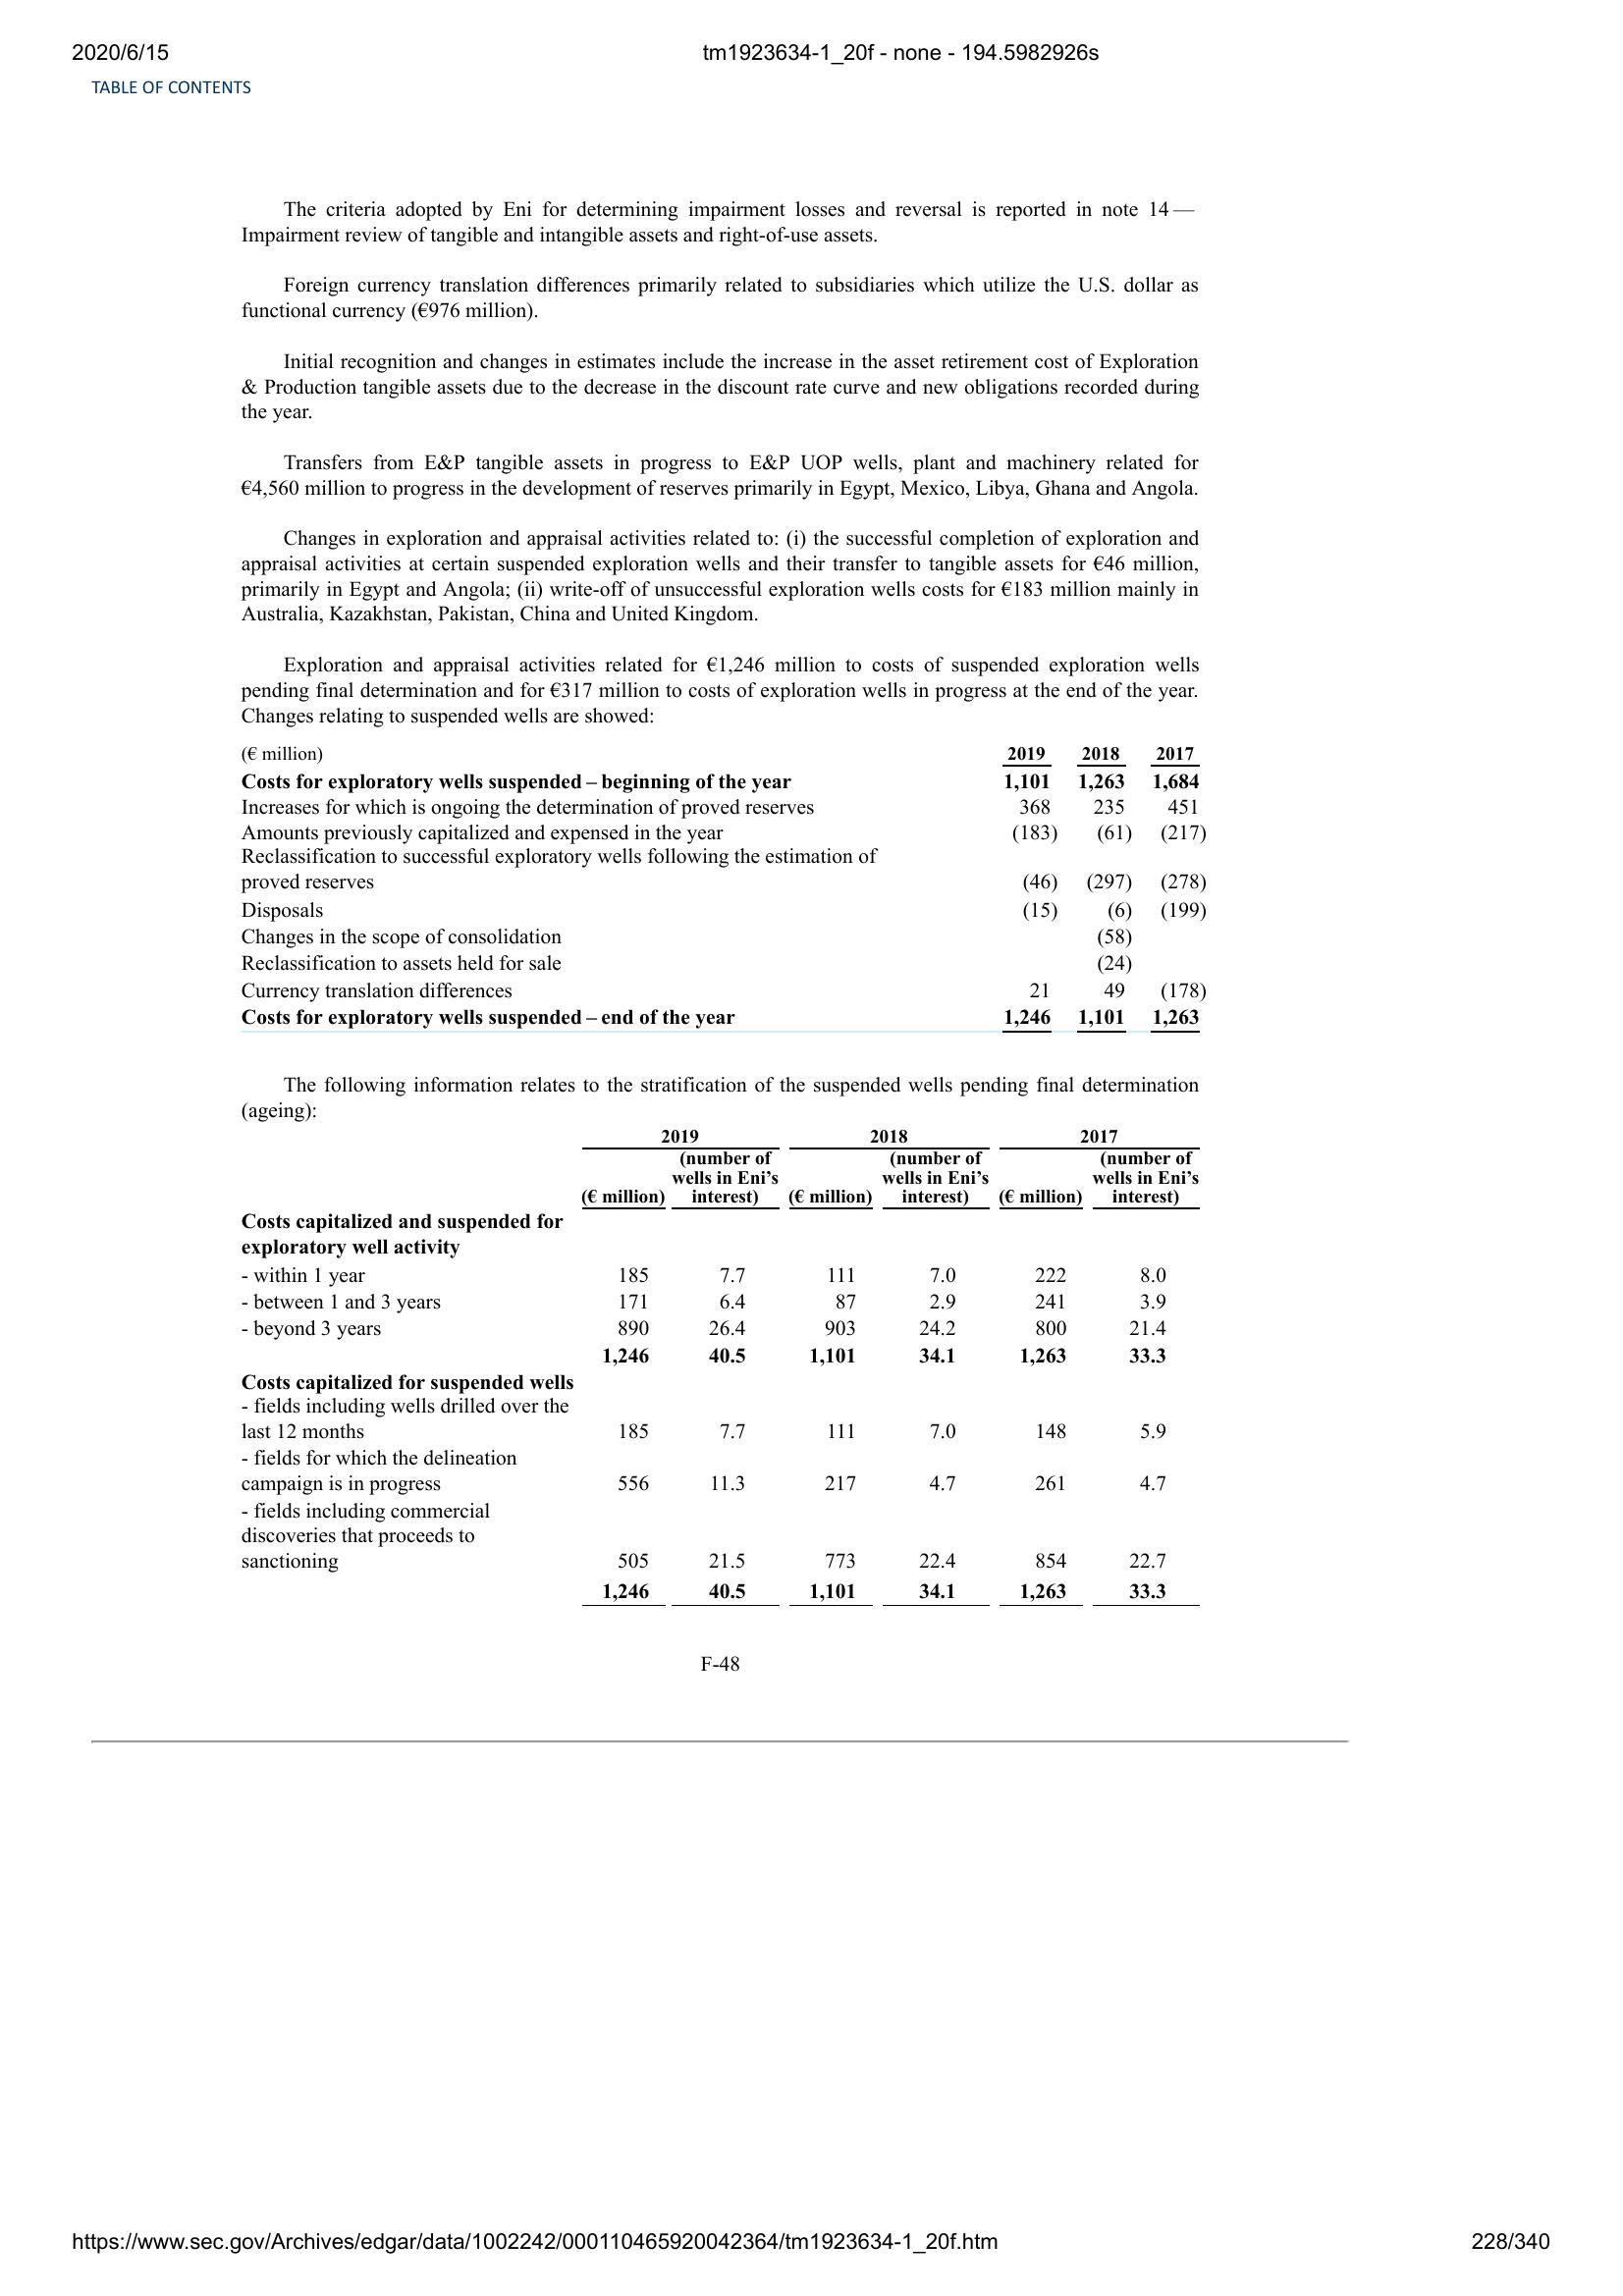table: (242, 1125, 1205, 1618), (232, 735, 1212, 1039)
